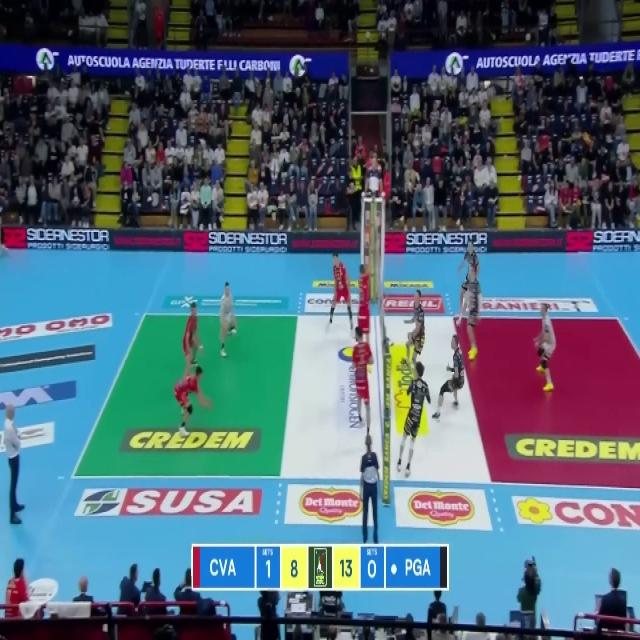volleyball court: (74, 312, 640, 493)
